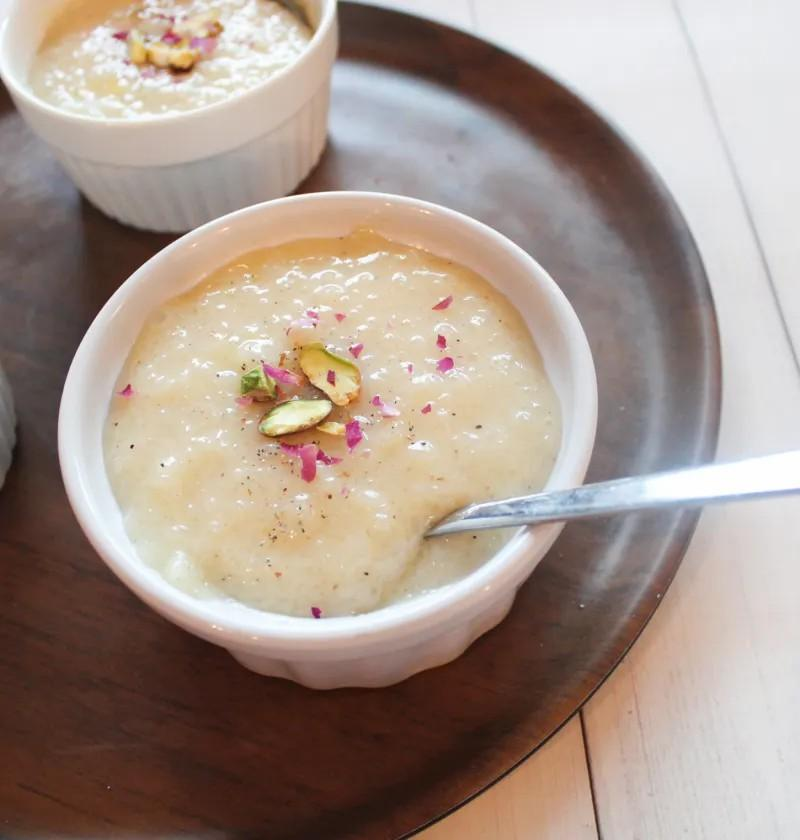Kheer: (107, 234, 561, 620), (25, 0, 313, 117)
